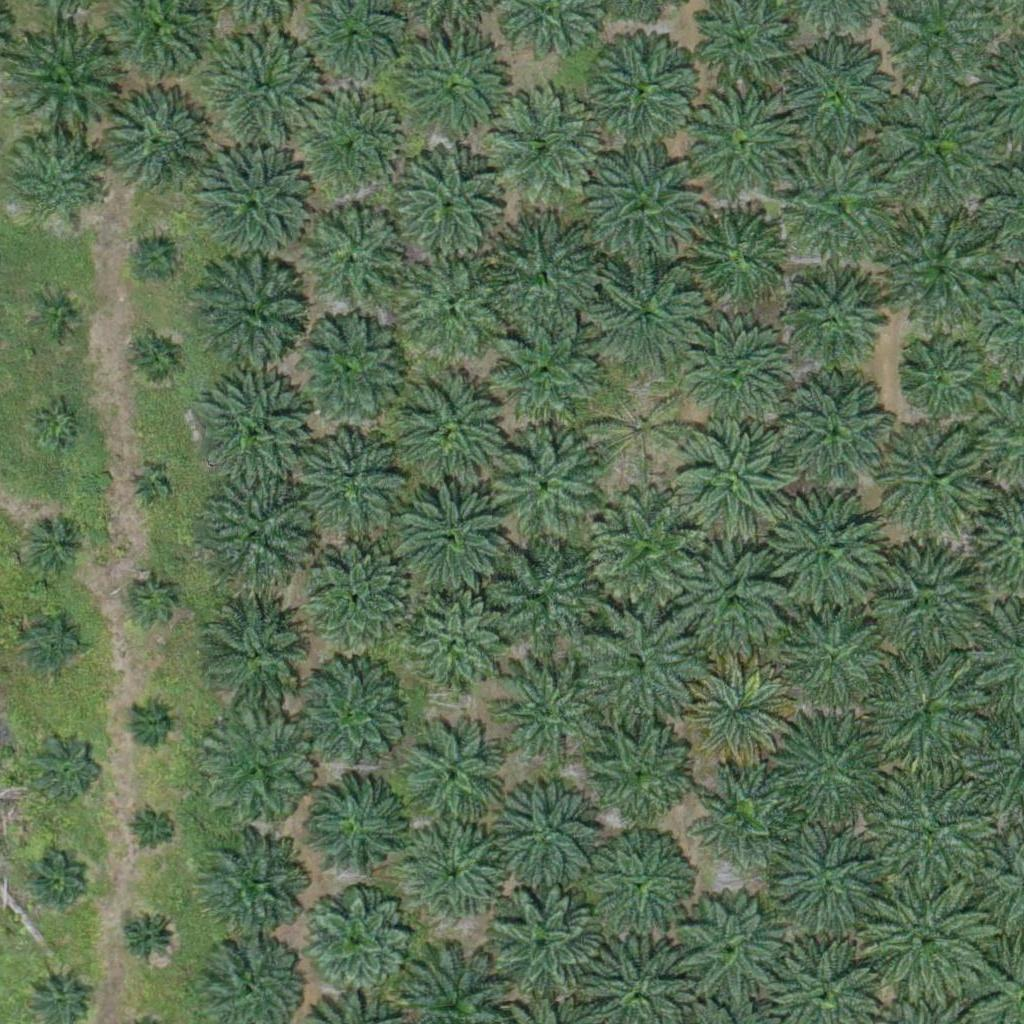Kelapa_Sawit: (396, 28, 521, 154), (879, 210, 1004, 336), (863, 651, 988, 777), (869, 770, 994, 896), (381, 136, 506, 262), (863, 873, 988, 998), (210, 30, 323, 144), (880, 422, 993, 536), (684, 85, 797, 199), (779, 375, 892, 489), (299, 884, 412, 998), (203, 716, 316, 830), (586, 31, 699, 144), (866, 547, 979, 660), (767, 492, 880, 605), (96, 86, 209, 199), (200, 375, 313, 488), (201, 477, 314, 590), (201, 592, 314, 705), (288, 86, 401, 199), (397, 247, 510, 360), (484, 540, 597, 653), (492, 432, 605, 545), (488, 315, 601, 428), (482, 217, 595, 330), (588, 493, 701, 606), (782, 145, 895, 258), (682, 658, 795, 771), (679, 891, 792, 1004), (584, 611, 697, 724), (580, 716, 693, 829), (293, 661, 406, 774), (10, 30, 122, 144), (488, 86, 600, 200), (588, 146, 700, 260), (683, 323, 795, 437), (196, 835, 308, 949), (784, 36, 896, 149), (881, 90, 993, 203), (779, 602, 891, 715), (769, 711, 881, 824), (769, 822, 881, 935), (198, 152, 310, 265), (198, 264, 310, 377), (295, 313, 407, 426), (302, 198, 414, 311), (400, 371, 512, 484), (396, 478, 508, 591), (590, 258, 702, 371), (675, 542, 787, 655), (676, 420, 788, 533), (492, 656, 604, 769), (488, 888, 600, 1001), (591, 380, 691, 481), (311, 544, 411, 645), (307, 430, 407, 531), (408, 598, 508, 699), (590, 836, 690, 937), (497, 781, 597, 882), (405, 730, 505, 831), (686, 207, 786, 307), (785, 265, 885, 365), (406, 823, 506, 923), (310, 777, 410, 877), (700, 773, 787, 862), (12, 137, 99, 225), (899, 341, 974, 417), (30, 729, 105, 804), (26, 856, 89, 919), (116, 906, 179, 969), (26, 516, 88, 579), (25, 613, 87, 676), (128, 573, 178, 624), (124, 697, 174, 748), (32, 401, 82, 451), (33, 292, 83, 342), (128, 805, 178, 855), (130, 233, 180, 283), (131, 336, 181, 386), (130, 468, 168, 506)
